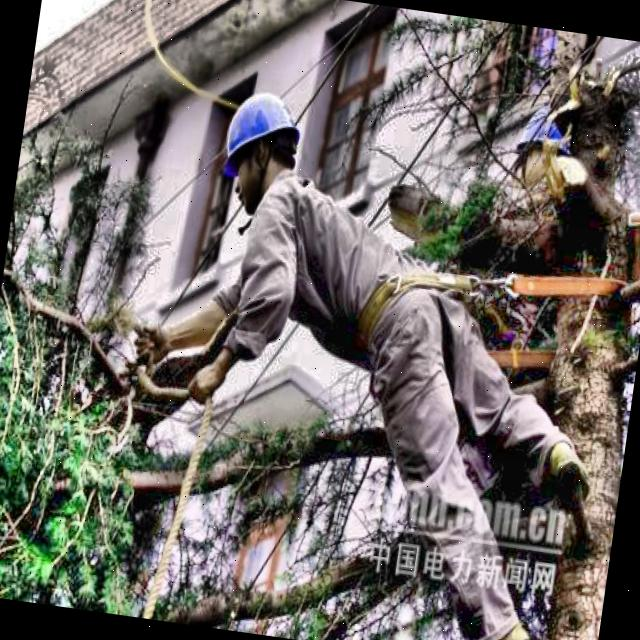helmet: (218, 84, 314, 214)
